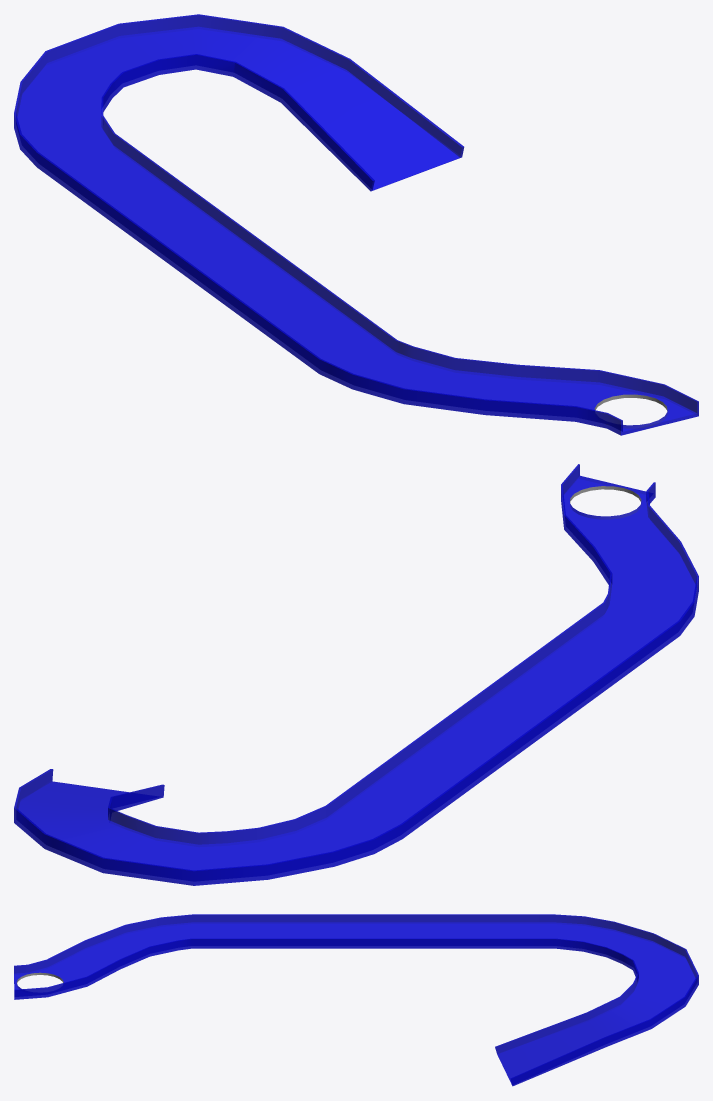
File: LeftRamp.fbx
3 views of the same model, one above another, from view 1: azimuth 30°, elevation 25°; view 2: azimuth 150°, elevation 25°; view 3: azimuth 270°, elevation 25° (orthographic). The views are drawn at different scales.
Parts seen in each view (by area): view 1: pCube3; view 2: pCube3; view 3: pCube3.
Part boxes in pixels (box(x1,y1,x2,y2)): pCube3: box(14, 14, 698, 435); pCube3: box(14, 464, 698, 885); pCube3: box(14, 914, 698, 1086).
Bounding box in the file's own units: 1.49 × 0.2757 × 3.5.
